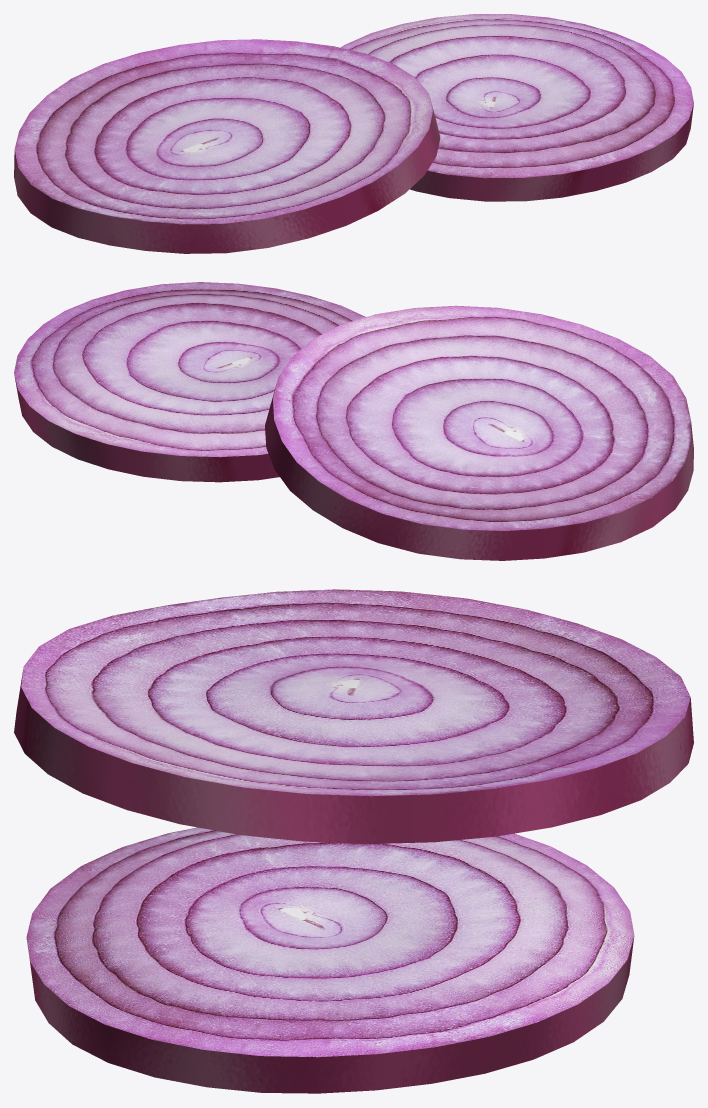
The model's file is onion.glb.
The picture shows the model from 3 angles, top to bottom: view 1: azimuth 30°, elevation 25°; view 2: azimuth 150°, elevation 25°; view 3: azimuth 270°, elevation 25°; orthographic projection. The views are drawn at different scales.
Parts seen in each view (by area): view 1: onionN2; view 2: onionN2; view 3: onionN2.
Boxes of the visible parts, x1,y1,x2,y2 form: onionN2: (14, 14, 693, 253); onionN2: (14, 282, 693, 560); onionN2: (14, 589, 693, 1093).
Size of the model in its own units: 0.0772 by 0.00937 by 0.0478.
1 material, 1 textured.
